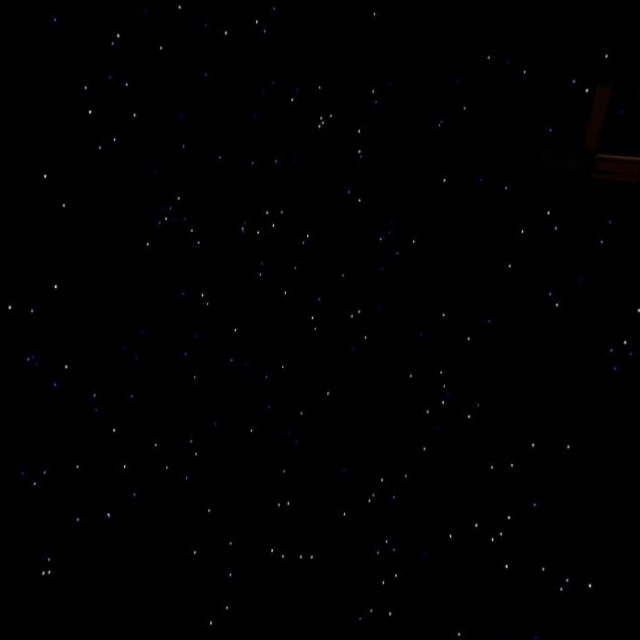satellite: (570, 75, 640, 194)
